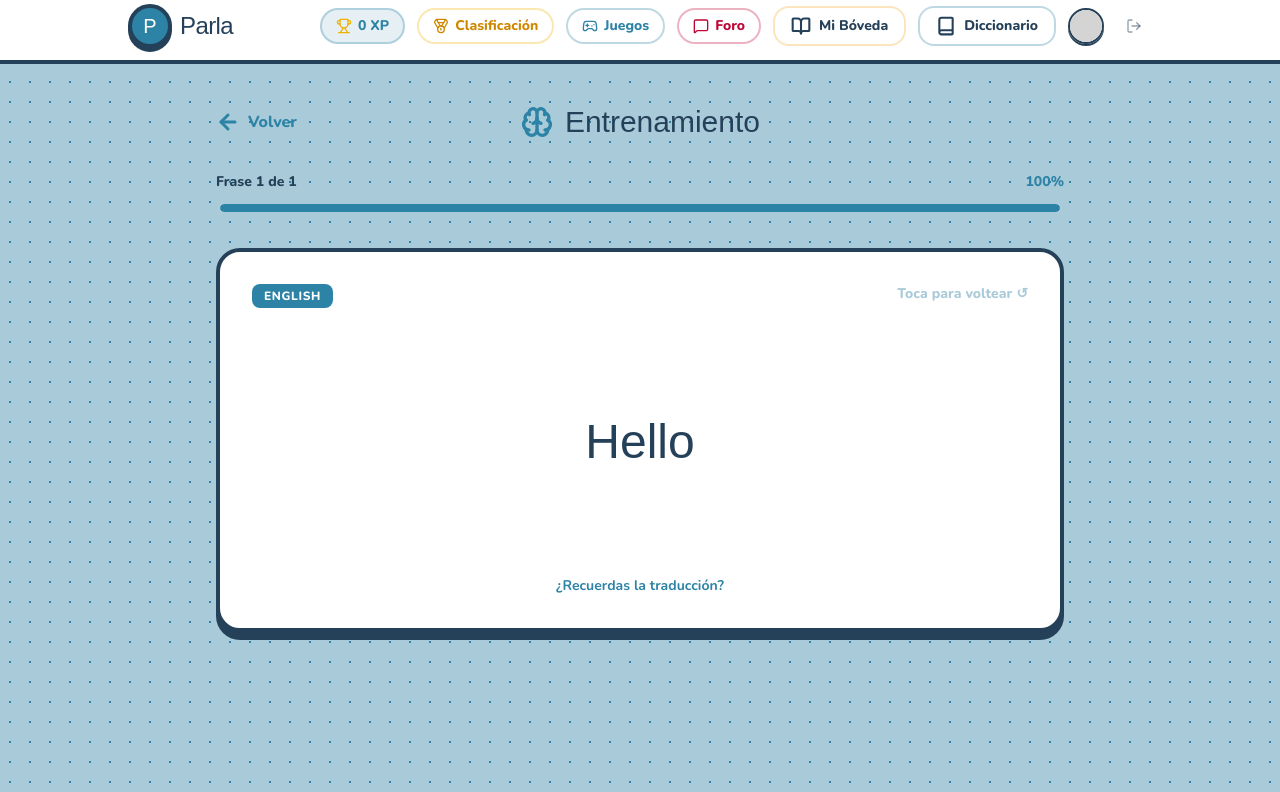
PracticePage Integration Tests › Review Submission › completes session after last phrase
Check: the heading "Hello" is shown, box [585,412,695,472]
Step 1. Click the text "Hello" → (640, 440), box [216,248,1064,632]
(page scrolled)
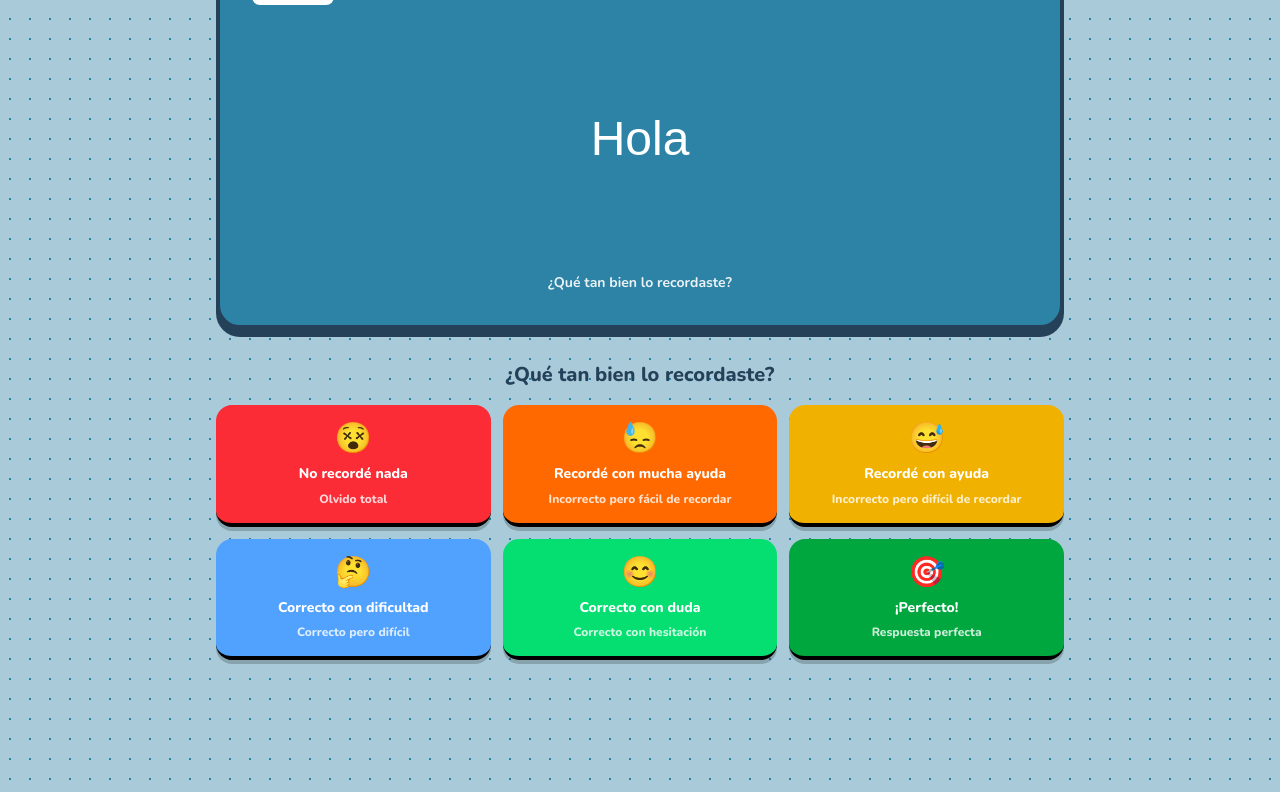
Check: the text "¡Perfecto!" is shown
Step 2. Click the text "¡Perfecto!" → (927, 607), box [895,598,958,616]
(page scrolled)
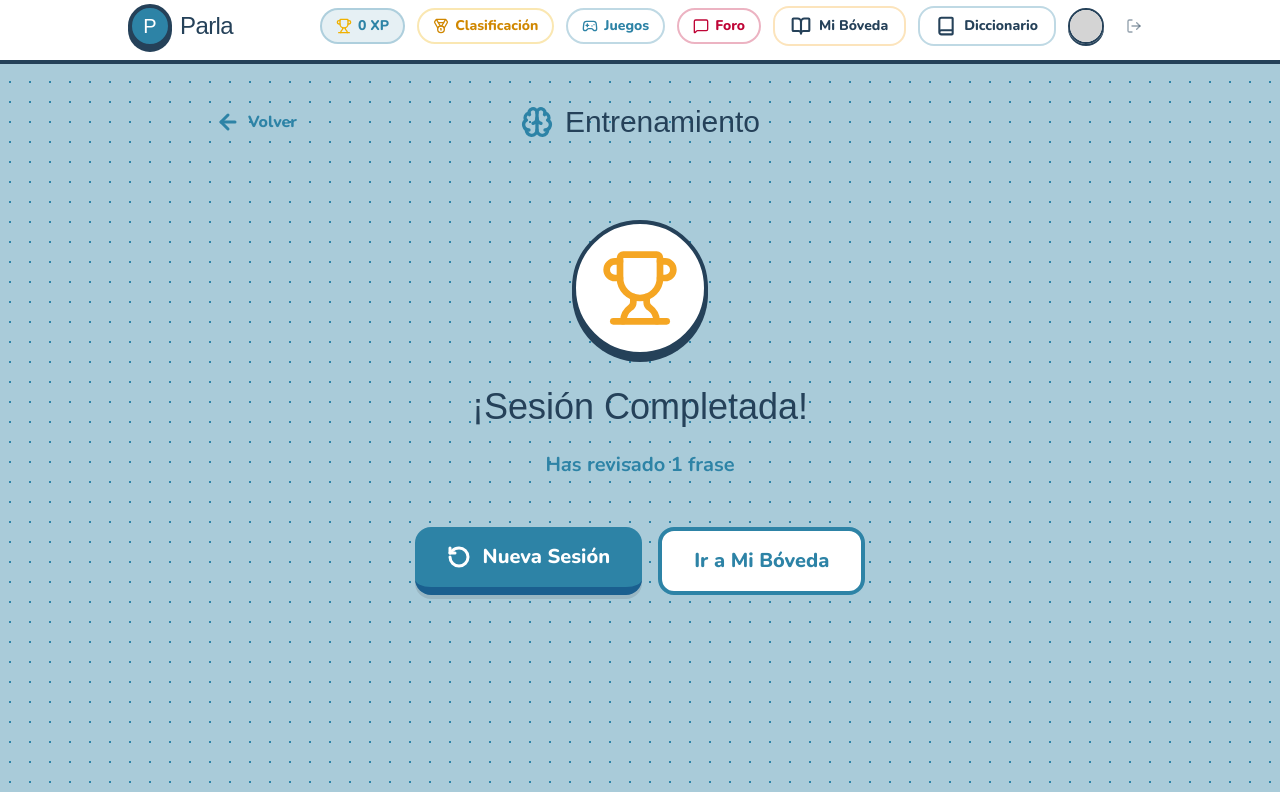
Check: the heading "¡Sesión Completada!" is shown, box [472,386,808,427]
